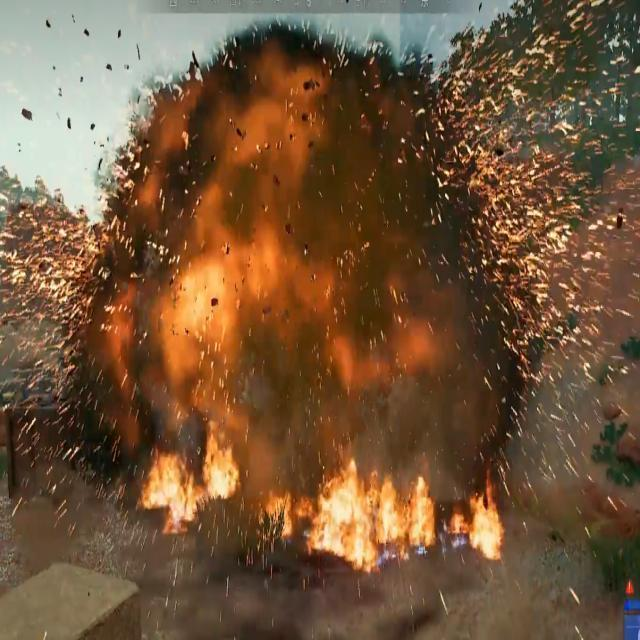fire: (55, 18, 539, 572)
